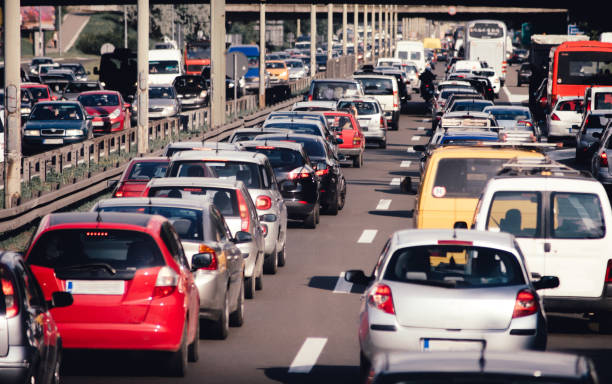bus: (548, 42, 611, 122), (464, 24, 507, 81)
car: (361, 229, 543, 373), (29, 217, 198, 370), (93, 200, 248, 333), (479, 171, 612, 304), (415, 151, 559, 252), (175, 151, 287, 238), (1, 252, 61, 382), (242, 144, 319, 210), (271, 132, 342, 197), (25, 101, 87, 153), (322, 110, 365, 167), (352, 78, 397, 131), (307, 81, 363, 123), (116, 156, 169, 197), (77, 91, 127, 133), (338, 100, 386, 142), (547, 99, 588, 142), (130, 86, 179, 119), (171, 77, 207, 110), (392, 62, 421, 97), (472, 69, 501, 93), (285, 58, 306, 81), (508, 47, 532, 67), (264, 62, 286, 82)
